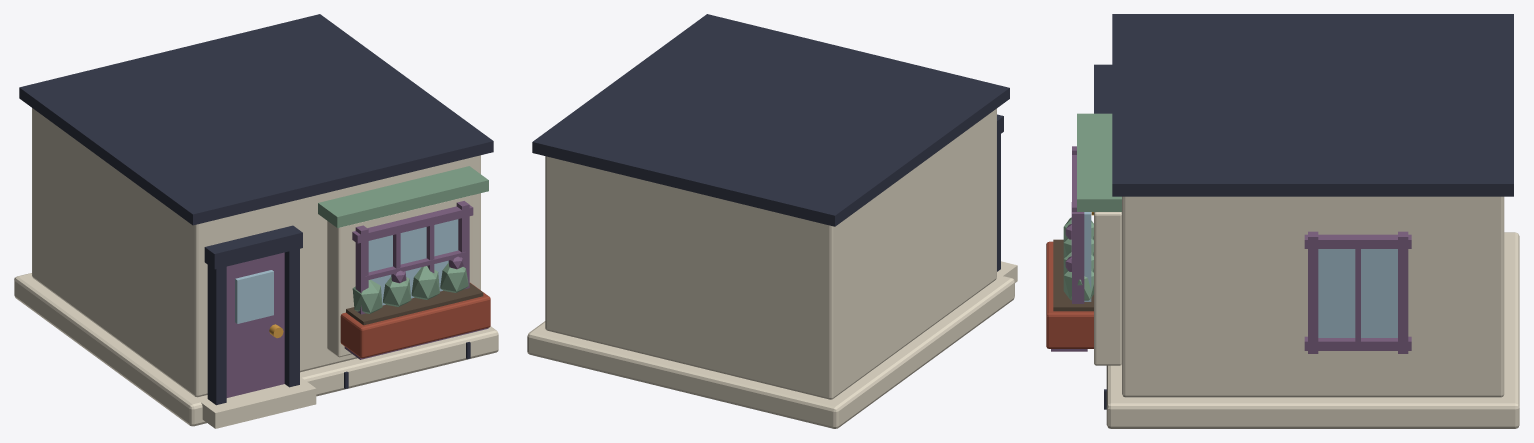
Rendered from base_house_gardens_1.glb.
3 views of the same model, side by side, from view 1: azimuth 30°, elevation 25°; view 2: azimuth 150°, elevation 25°; view 3: azimuth 270°, elevation 25° (orthographic). The views are drawn at different scales.
Visible parts, largest first — view 1: base_house_gardens_1 ink, base_house_gardens_1 mist, base_house_gardens_1 patina, base_house_gardens_1 pine, base_house_gardens_1 clay, base_house_gardens_1 glass, base_house_gardens_1 soil, base_house_gardens_1 leaf; view 2: base_house_gardens_1 mist, base_house_gardens_1 ink; view 3: base_house_gardens_1 mist, base_house_gardens_1 ink, base_house_gardens_1 patina, base_house_gardens_1 glass, base_house_gardens_1 pine, base_house_gardens_1 clay, base_house_gardens_1 soil.
Part boxes in pixels (bbox=[...]): base_house_gardens_1 ink: bbox=[19, 14, 493, 405]; base_house_gardens_1 mist: bbox=[14, 108, 498, 428]; base_house_gardens_1 patina: bbox=[226, 201, 488, 397]; base_house_gardens_1 pine: bbox=[318, 166, 488, 306]; base_house_gardens_1 clay: bbox=[340, 282, 490, 358]; base_house_gardens_1 glass: bbox=[235, 219, 458, 323]; base_house_gardens_1 soil: bbox=[346, 283, 483, 325]; base_house_gardens_1 leaf: bbox=[352, 266, 439, 313]; base_house_gardens_1 mist: bbox=[527, 108, 1017, 428]; base_house_gardens_1 ink: bbox=[532, 14, 1009, 271]; base_house_gardens_1 mist: bbox=[1094, 196, 1519, 428]; base_house_gardens_1 ink: bbox=[1094, 14, 1513, 409]; base_house_gardens_1 patina: bbox=[1051, 146, 1411, 353]; base_house_gardens_1 glass: bbox=[1084, 212, 1397, 337]; base_house_gardens_1 pine: bbox=[1063, 113, 1121, 300]; base_house_gardens_1 clay: bbox=[1046, 241, 1093, 348]; base_house_gardens_1 soil: bbox=[1053, 239, 1093, 311].
Bounding box in the file's own units: 0.7445 × 0.48 × 0.8425.
